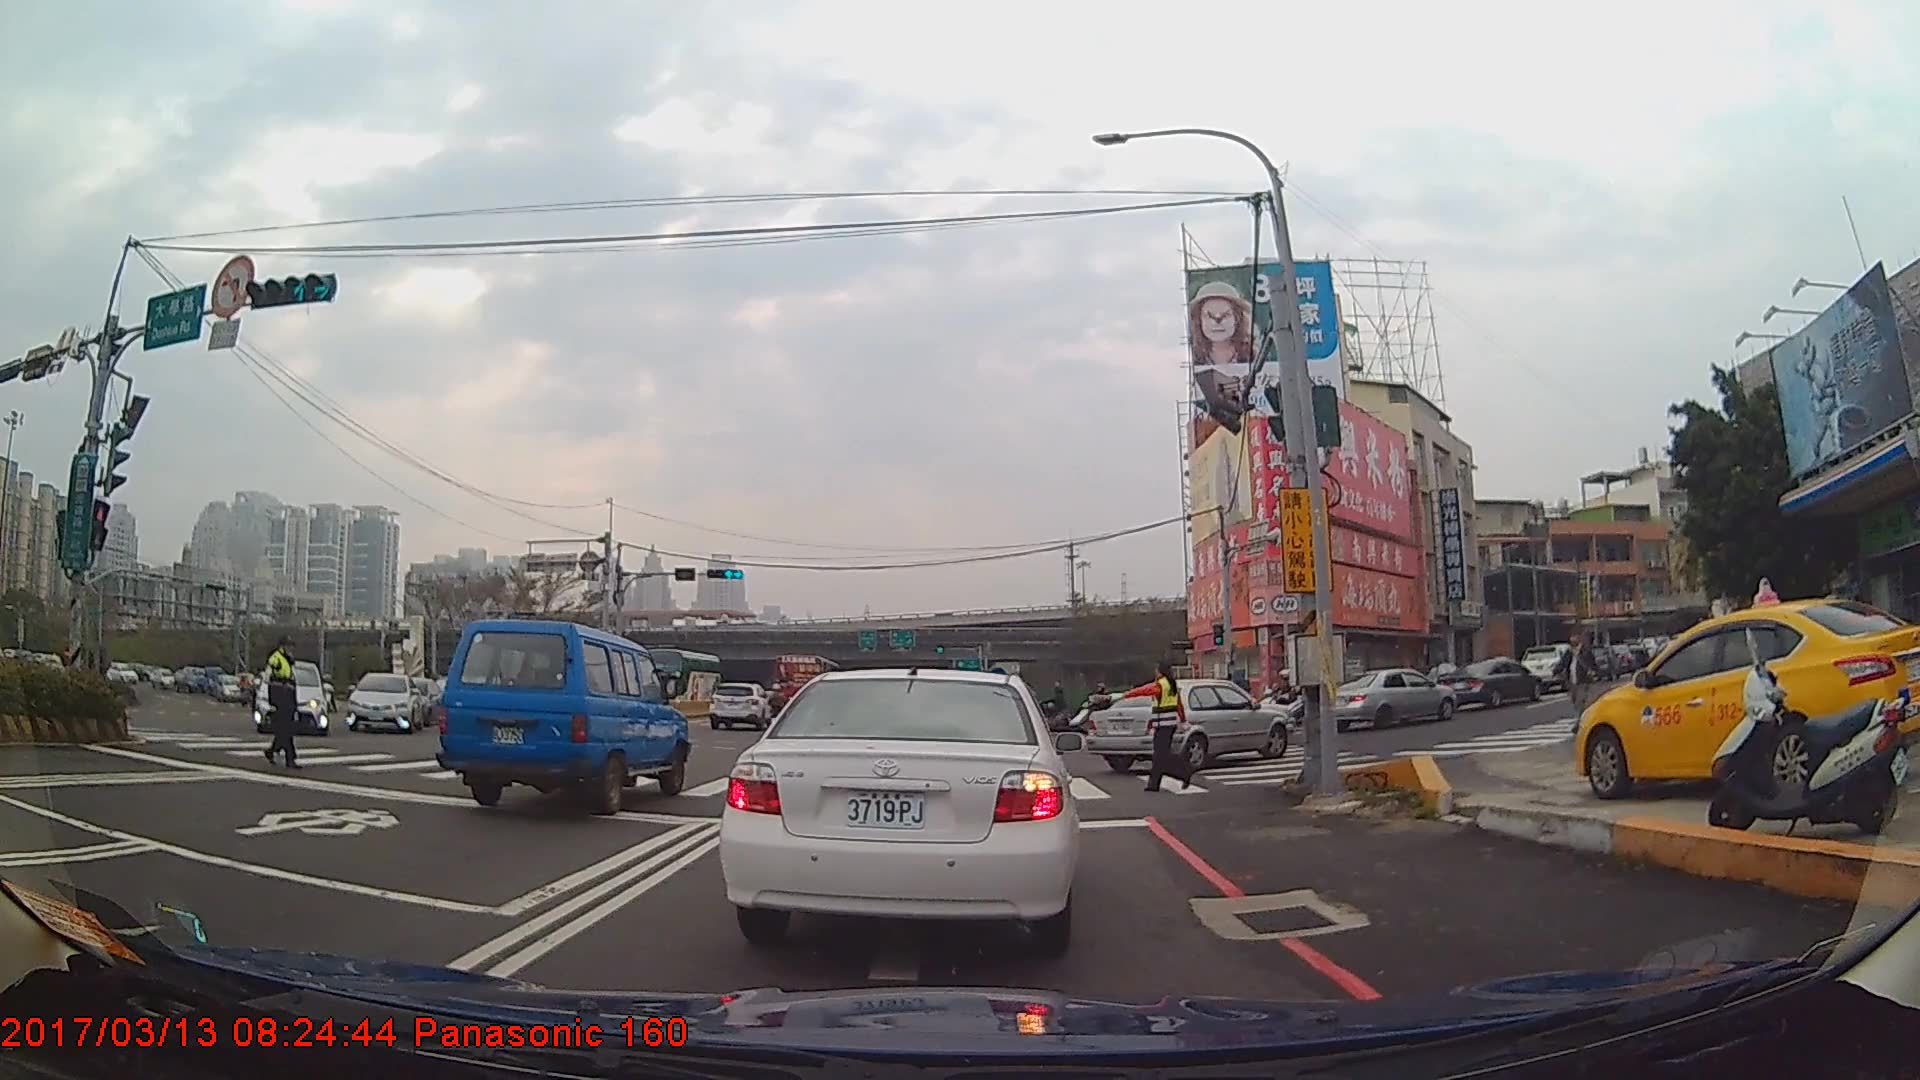pedestrian: (1096, 659, 1188, 792), (250, 635, 301, 766), (1560, 628, 1602, 738)
rider: (1071, 682, 1131, 741), (1256, 667, 1309, 726), (766, 681, 790, 736)
vehicle: (719, 659, 1078, 945), (1575, 595, 1920, 802), (436, 615, 688, 815), (1086, 677, 1294, 773), (1325, 668, 1457, 731), (256, 659, 327, 735), (637, 648, 721, 707), (1449, 658, 1544, 711), (344, 671, 416, 734), (771, 652, 843, 713), (705, 680, 773, 730), (1521, 642, 1579, 691), (1585, 642, 1623, 681)
